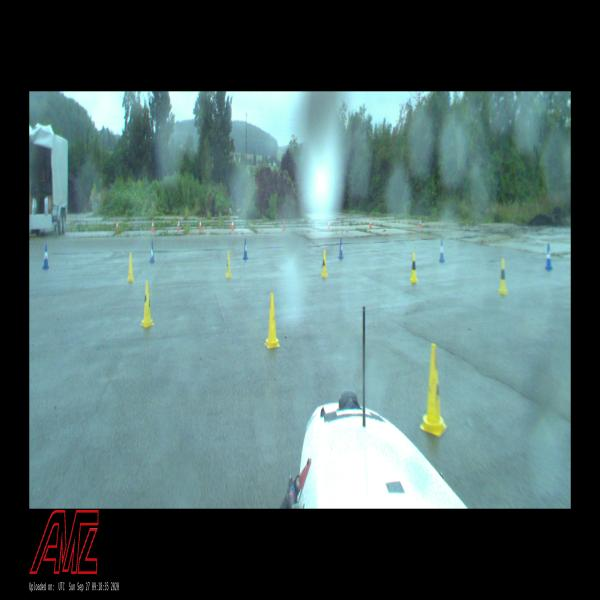blue_cone: (545, 243, 553, 270), (43, 245, 49, 270), (439, 241, 445, 262), (243, 238, 248, 260), (338, 238, 343, 259), (150, 242, 154, 264)
orange_cone: (282, 218, 286, 232), (231, 219, 234, 230), (177, 219, 180, 230), (369, 217, 372, 228), (419, 218, 422, 228), (152, 219, 154, 232), (116, 219, 118, 232), (199, 218, 201, 230), (328, 219, 330, 230)
yellow_cone: (419, 343, 447, 437), (264, 292, 280, 350), (140, 281, 154, 327), (498, 258, 508, 294), (410, 252, 418, 282), (127, 251, 134, 282), (321, 249, 328, 277), (225, 251, 232, 278)
